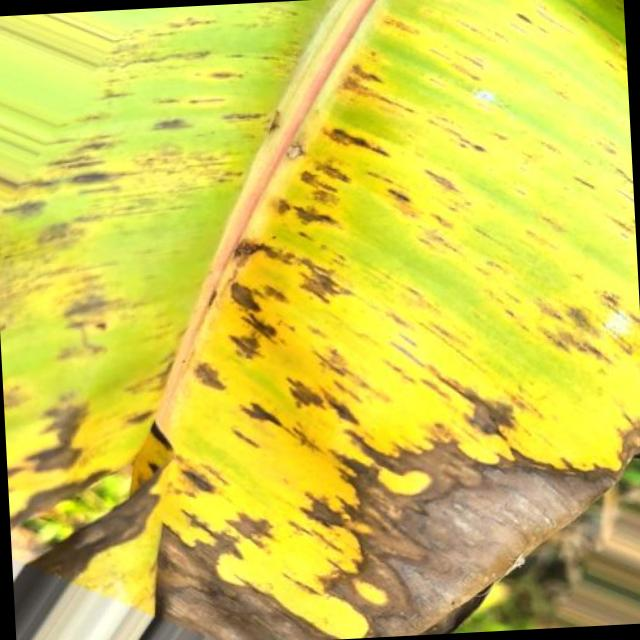Banana_Black_Sigatoka: (0, 88, 277, 562), (264, 69, 638, 381), (156, 408, 640, 640)
